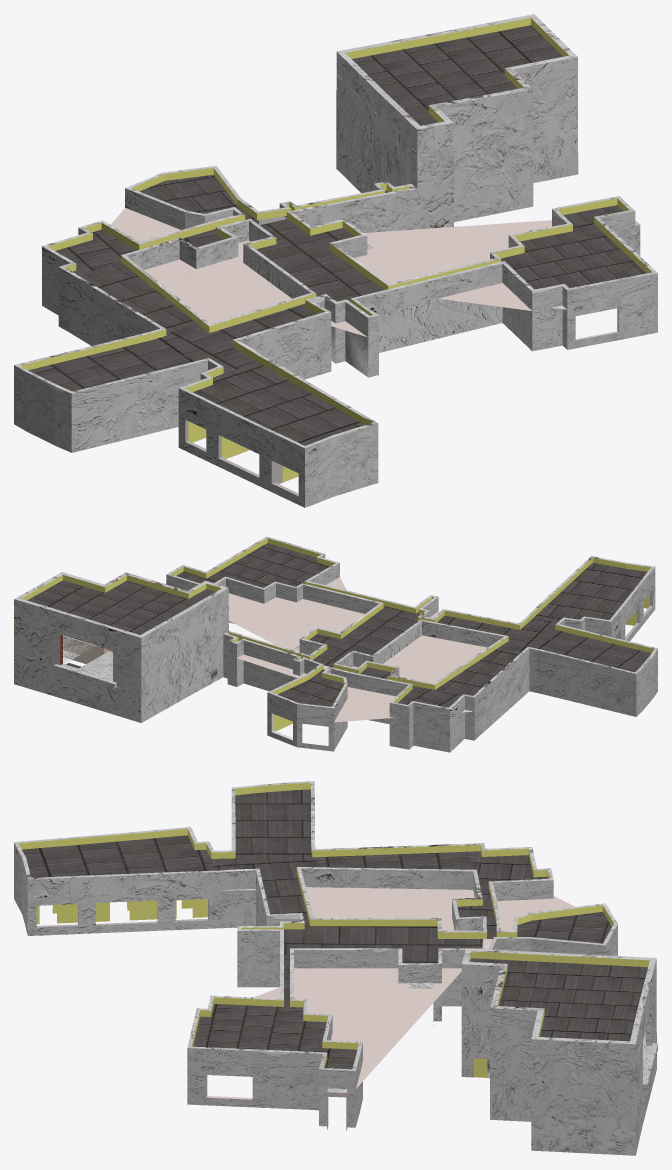
Rendered from School walls.fbx.
3 views of the same model, one above another, from view 1: azimuth 30°, elevation 25°; view 2: azimuth 150°, elevation 25°; view 3: azimuth 270°, elevation 25° (orthographic). The views are drawn at different scales.
Parts seen in each view (by area): view 1: School; view 2: School; view 3: School.
Boxes of the visible parts, bbox=[...] form: School: bbox=[14, 14, 657, 507]; School: bbox=[14, 536, 657, 752]; School: bbox=[14, 781, 657, 1155].
Bounding box in the file's own units: 425 × 69.98 × 362.
2 materials, 2 textured.
